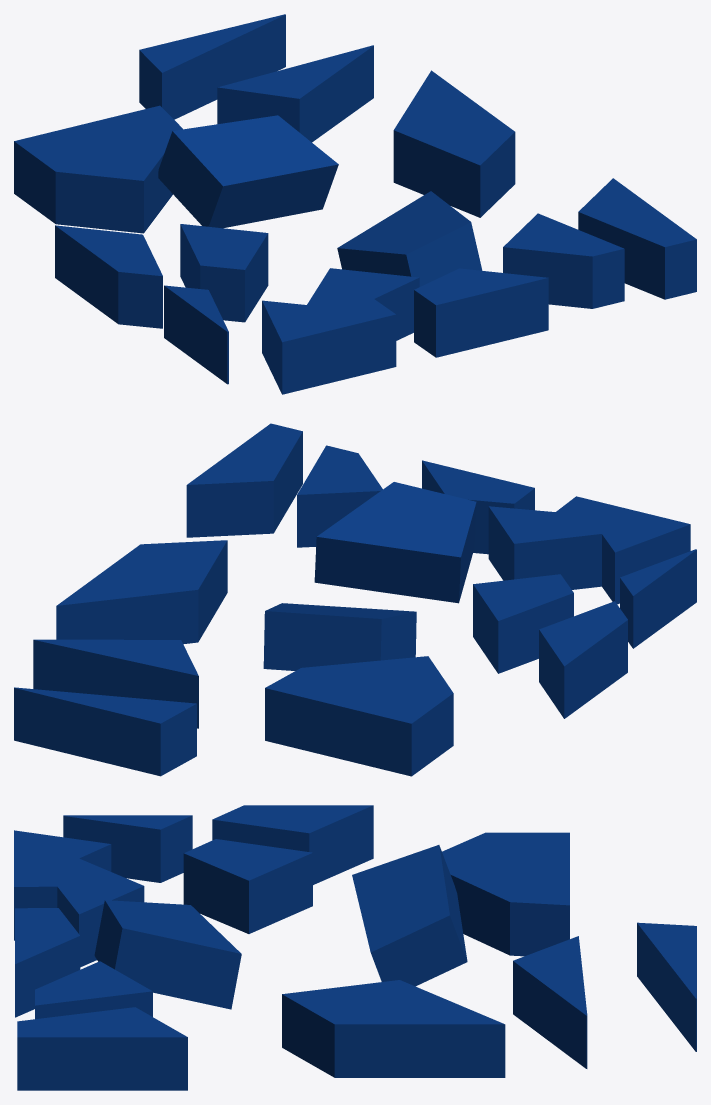
Rendered from glace.obj.
3 renders of one model, top to bottom at view 1: azimuth 30°, elevation 25°; view 2: azimuth 150°, elevation 25°; view 3: azimuth 270°, elevation 25°, orthographic.
Parts seen in each view (by area): view 1: Mesh001, Mesh008, Mesh010, Mesh012, Mesh003, Mesh009, Mesh002, Mesh011, Mesh007, Mesh006, Plane001, Mesh005 (+1 smaller); view 2: Mesh001, Mesh007, Mesh010, Mesh012, Mesh009, Mesh006, Mesh002, Mesh008, Mesh011, Mesh005, Plane001, Mesh004 (+1 smaller); view 3: Mesh012, Mesh001, Mesh006, Mesh008, Mesh007, Mesh005, Mesh010, Mesh011, Mesh002, Mesh004, Mesh009, Mesh003 (+1 smaller).
Part boxes in pixels (x1,y1,x2,y2): Mesh001: (14,105,182,233); Mesh008: (158,115,338,228); Mesh010: (262,268,419,394); Mesh012: (393,70,515,217); Mesh003: (414,268,548,357); Mesh009: (139,14,285,119); Mesh002: (217,45,373,142); Mesh011: (55,225,162,328); Mesh007: (337,191,482,286); Mesh006: (578,178,696,299); Plane001: (503,213,624,308); Mesh005: (180,224,268,322); Mesh001: (265,656,453,776); Mesh007: (314,482,476,603); Mesh010: (488,496,690,604); Mesh012: (56,540,227,644); Mesh009: (14,687,196,776); Mesh006: (186,423,302,537); Mesh002: (33,639,198,728); Mesh008: (263,603,416,670); Mesh011: (539,601,627,718); Mesh005: (473,574,573,673); Plane001: (297,445,382,547); Mesh004: (620,549,696,648); Mesh012: (282,980,505,1077); Mesh001: (442,832,569,956); Mesh006: (17,1007,187,1090); Mesh008: (352,845,467,986); Mesh007: (94,900,241,1009); Mesh005: (183,839,312,933); Mesh010: (14,830,144,967); Mesh011: (212,805,373,884); Mesh002: (513,936,587,1068); Mesh004: (63,815,192,882); Mesh009: (637,922,696,1051); Mesh003: (15,908,80,1017).
Bounding box in the file's own units: 67.84 × 12.59 × 84.36.
